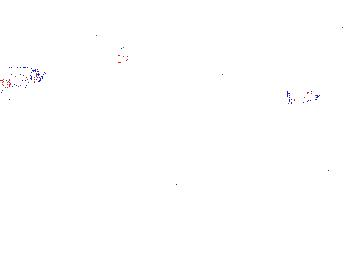X-ray fish: (114, 42, 138, 66)
red belly glassfish: (327, 25, 346, 38)
redtail glassfish: (199, 57, 254, 83), (1, 65, 46, 94), (283, 85, 322, 109)
